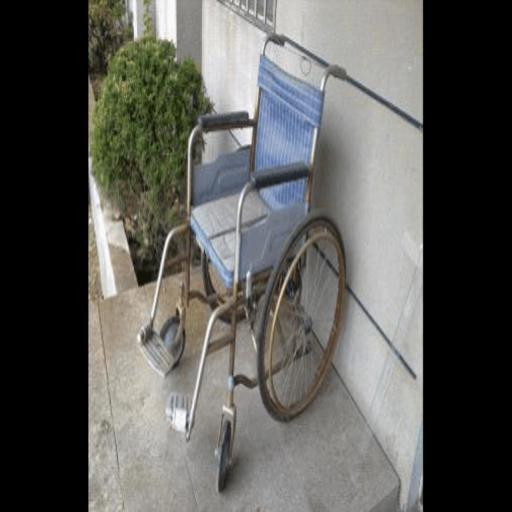cadeira_de_rodas: (131, 30, 362, 494)
